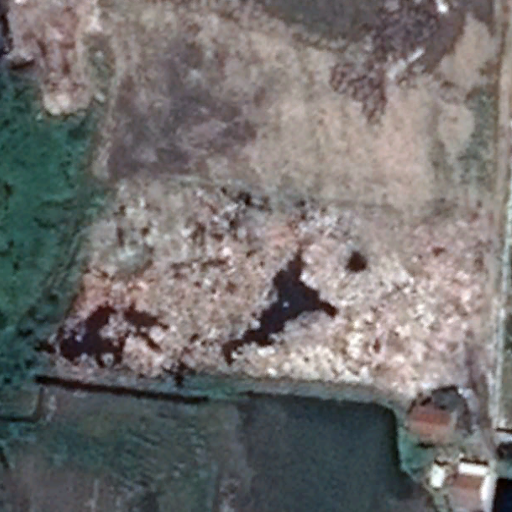msw: (52, 179, 475, 399)
